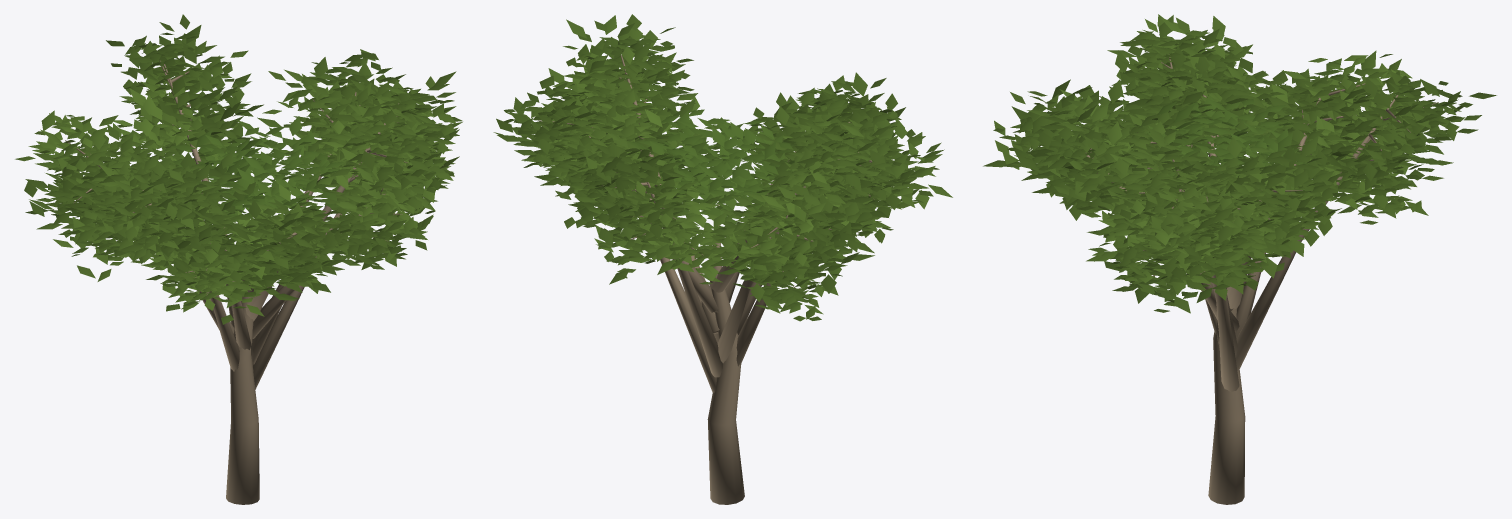
The model's file is broadleaf_b.glb.
The picture shows the model from 3 angles, left to right: view 1: azimuth 30°, elevation 25°; view 2: azimuth 150°, elevation 25°; view 3: azimuth 270°, elevation 25°; orthographic projection. The views are drawn at different scales.
Parts seen in each view (by area): view 1: CrownLeaves, Branches; view 2: CrownLeaves, Branches; view 3: CrownLeaves, Branches.
Part boxes in pixels (<box>): CrownLeaves: <box>15,14,462,324</box>; Branches: <box>65,60,407,504</box>; CrownLeaves: <box>493,14,952,321</box>; Branches: <box>538,55,874,504</box>; CrownLeaves: <box>983,14,1496,313</box>; Branches: <box>1086,54,1438,504</box>.
Size of the model in its own units: 1.01 by 1.01 by 1.08.
